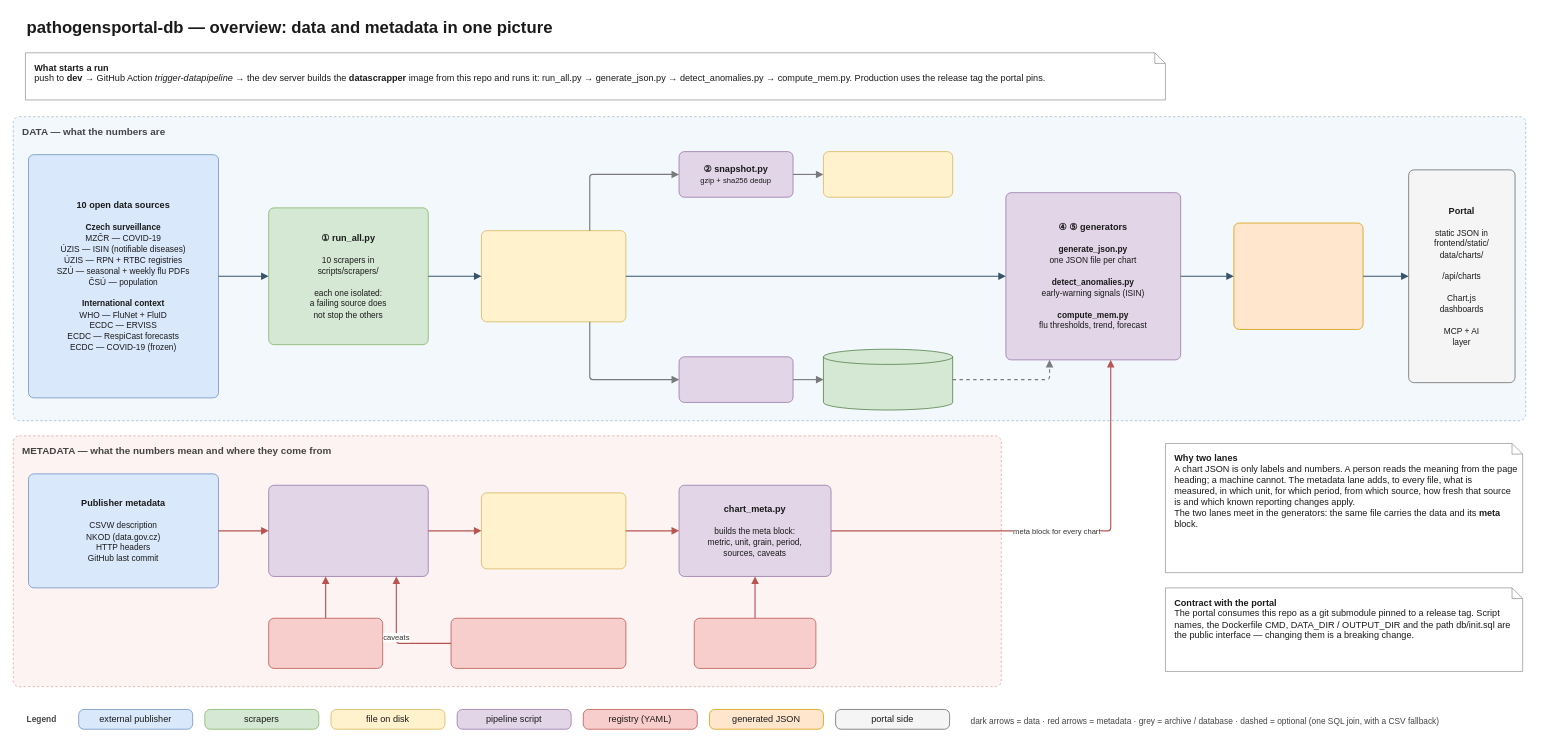
This 1560x743 diagram has some shape labels left out. The centre of each missing label's shape, as x and y in pixels:
"$DATA_DIR/ <source>/*.csv plain files are the hand-over between phases" belongs at [553,276].
"$DATA_DIR/meta/ source_metadata.json licence, freshness, periodicity, caveats" belongs at [553,530].
"$DATA_DIR/raw/ dated archive + manifest" belongs at [888,174].
"$OUTPUT_DIR/ *.json labels + datasets + meta anomaly_signals.json flu_mem.json" belongs at [1298,275].
"charts.yaml what each chart measures" belongs at [755,643].
"methodology_changes.yaml known reporting changes" belongs at [538,643].
"PostgreSQL observation population" belongs at [888,379].
"source_metadata.py asks each publisher; a failure is recorded, never fatal" belongs at [348,530].
"sources.yaml where to look" belongs at [325,643].
"③ load_to_db.py optional, UPSERT" belongs at [735,379].
